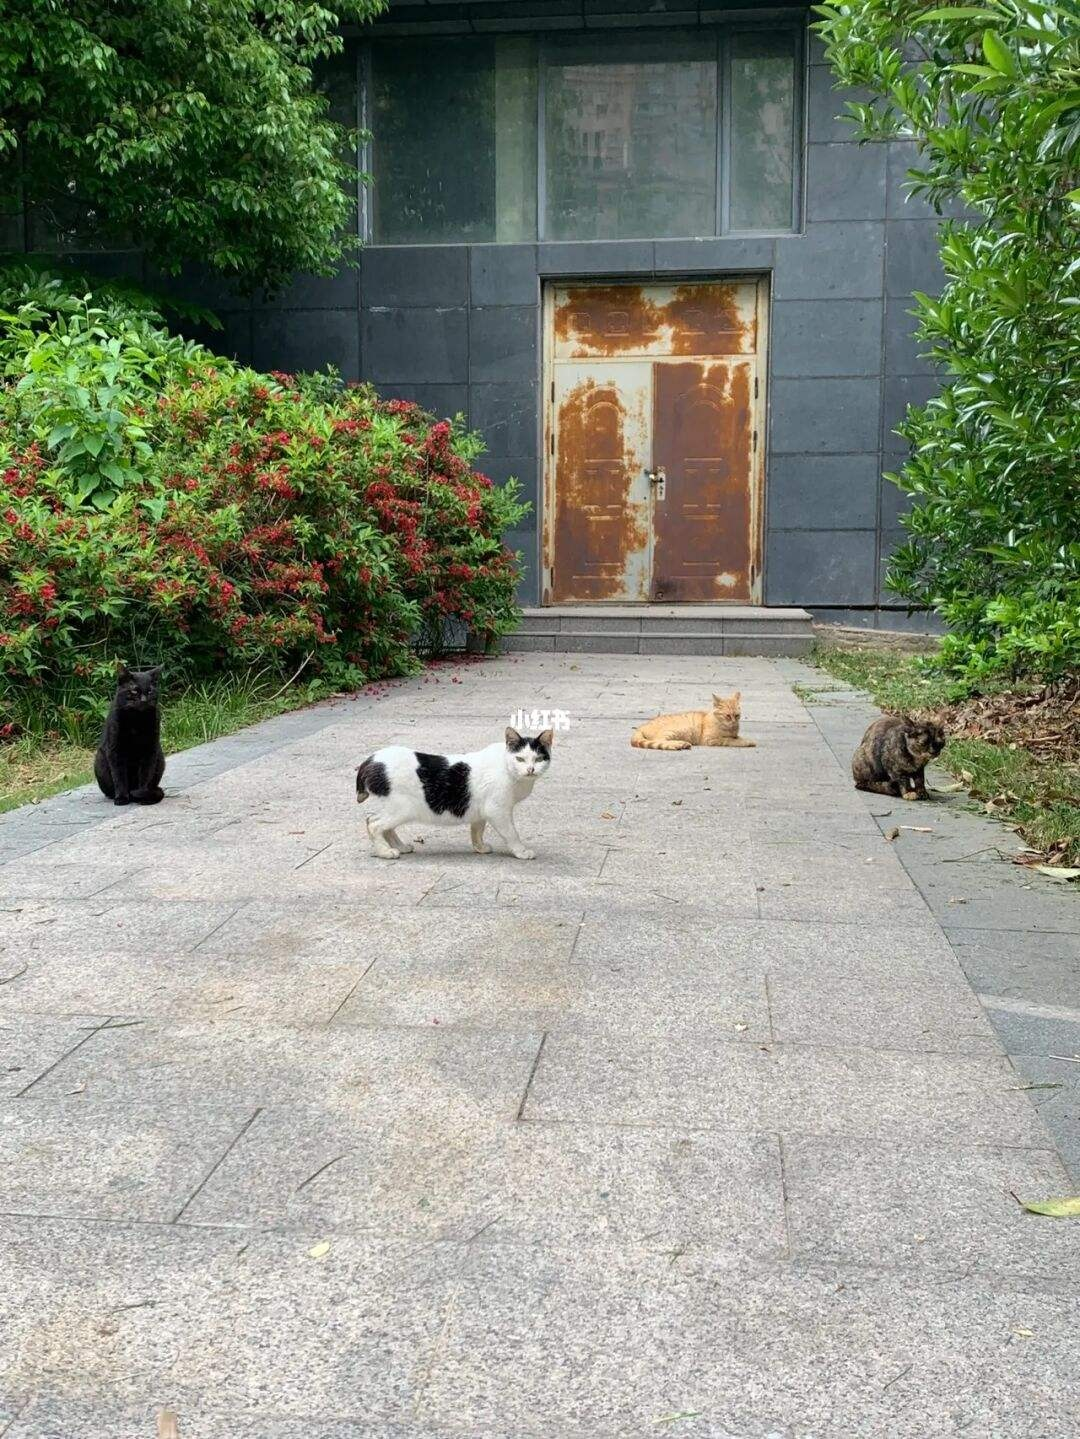cat: (354, 726, 554, 860), (93, 662, 166, 807), (852, 712, 948, 803), (628, 691, 756, 751)
